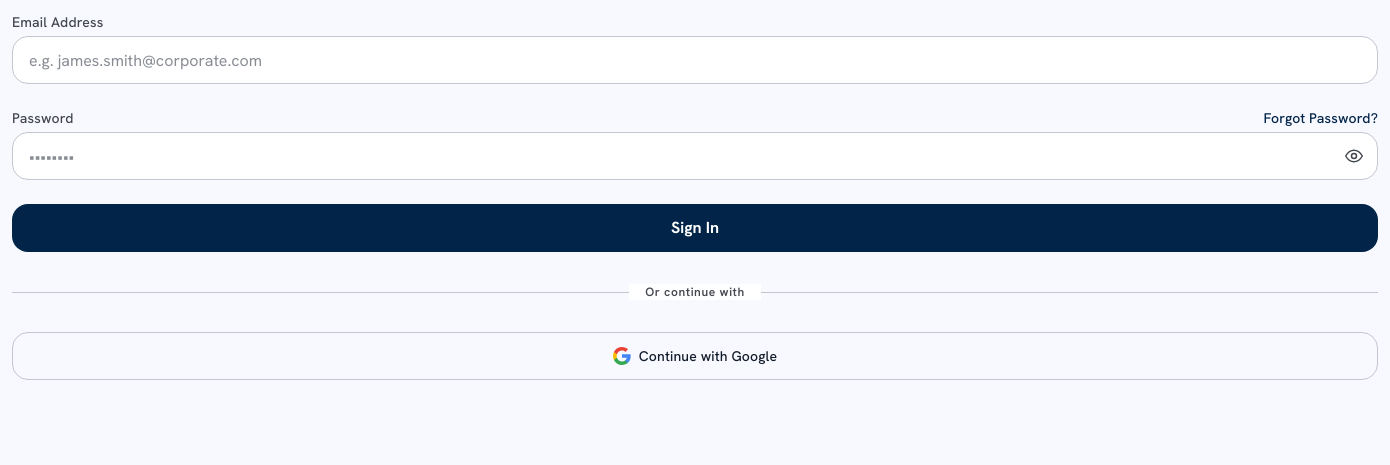
Test: LoginForm › shows a mapped error message when the Google popup sign-in is cancelled
Click the button "Continue with Google".
click(695, 356)  # box [12,332,1378,380]
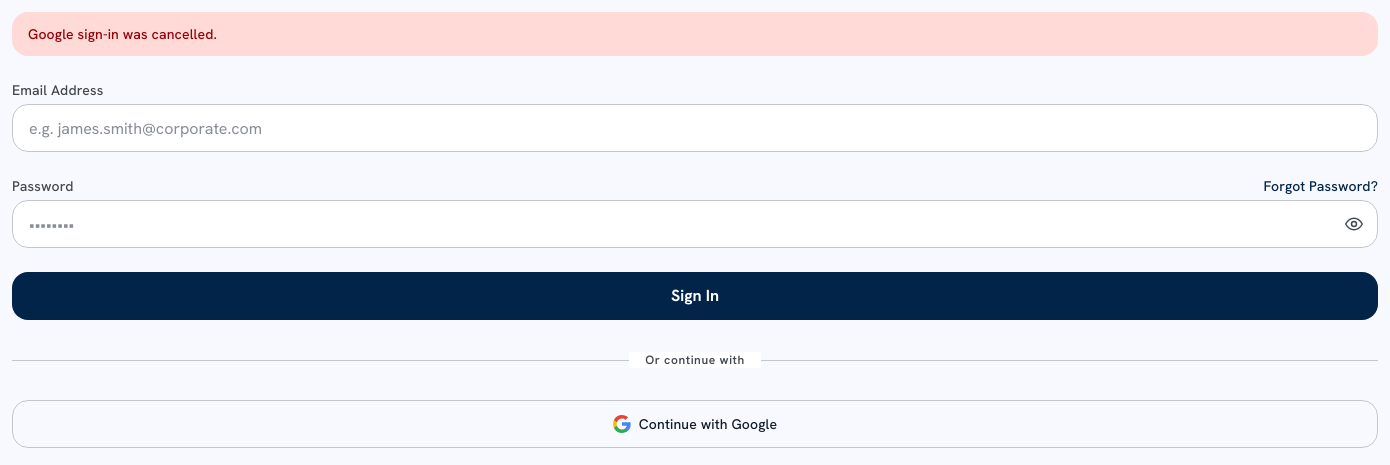
Result: the text "Google sign-in was cancelled." is shown at [12,12,1378,56]
